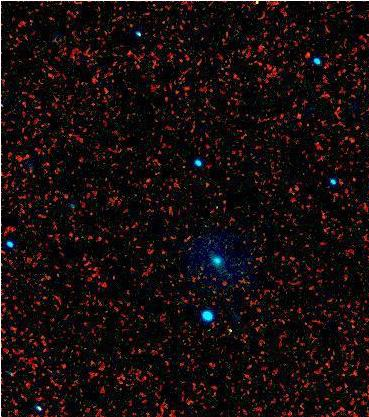star: (220, 315, 250, 345)
